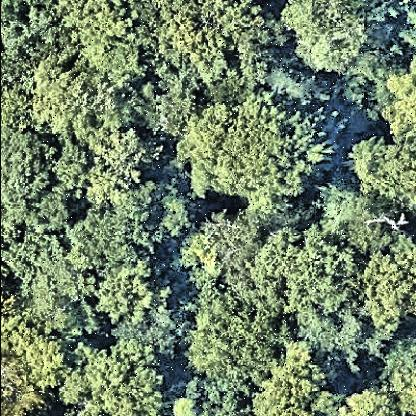tree-top: (177, 89, 328, 215), (59, 329, 177, 416), (251, 223, 347, 325), (2, 210, 88, 321), (73, 177, 181, 261), (185, 1, 278, 91), (183, 303, 280, 384), (280, 1, 379, 79), (55, 1, 145, 80), (2, 298, 62, 414), (359, 216, 416, 338), (253, 339, 343, 416), (94, 257, 171, 331), (110, 80, 198, 142), (85, 122, 148, 208), (201, 211, 267, 289), (1, 132, 67, 208), (353, 133, 416, 210), (28, 63, 95, 135), (2, 2, 73, 60), (342, 58, 402, 120), (375, 60, 416, 147), (186, 369, 253, 416), (379, 344, 416, 416), (341, 389, 405, 416)
